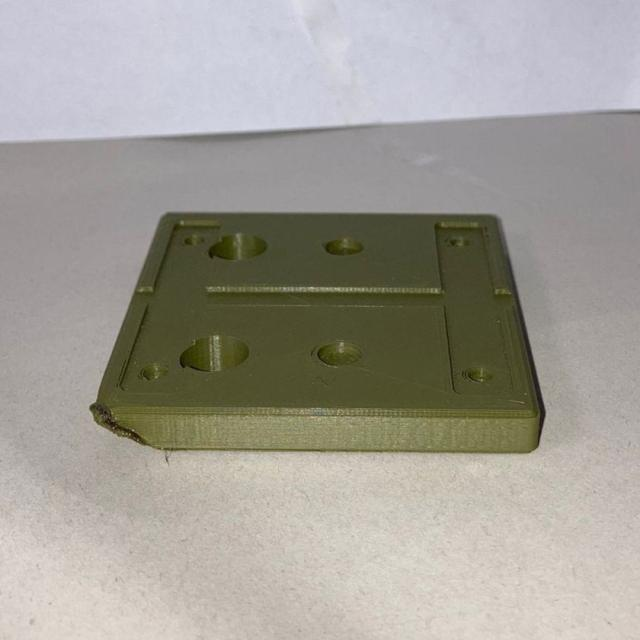Warping: (91, 407, 165, 449)
